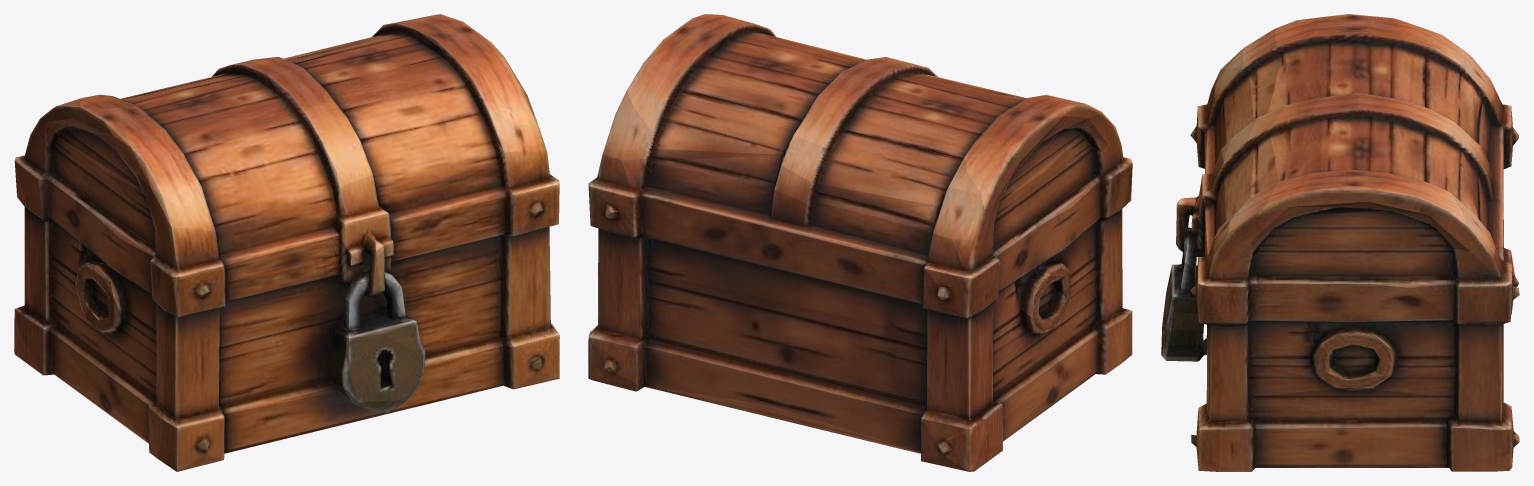
The model's file is meshy_chest_copper_lock_lod0.glb.
3 views of the same model, side by side, from view 1: azimuth 30°, elevation 25°; view 2: azimuth 150°, elevation 25°; view 3: azimuth 270°, elevation 25° (orthographic). The views are drawn at different scales.
Visible parts, largest first — view 1: meshy_chest_copper_lock; view 2: meshy_chest_copper_lock; view 3: meshy_chest_copper_lock.
Part boxes in pixels (x1,y1,x2,y2): meshy_chest_copper_lock: [14, 14, 559, 471]; meshy_chest_copper_lock: [588, 14, 1132, 471]; meshy_chest_copper_lock: [1161, 14, 1519, 471].
Bounding box in the file's own units: 1.11 × 0.8 × 0.92.
Materials: 1 (1 with a texture image).
